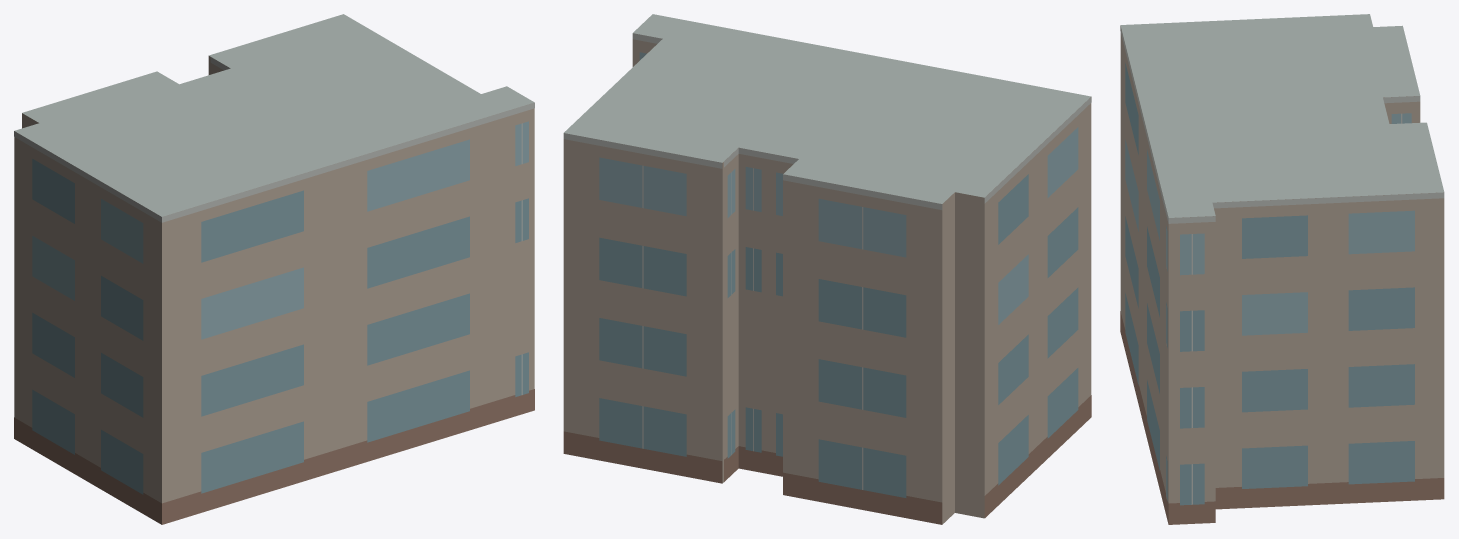
File: survey-upis-32746860.glb
The picture shows the model from 3 angles, left to right: view 1: azimuth 30°, elevation 25°; view 2: azimuth 150°, elevation 25°; view 3: azimuth 270°, elevation 25°; orthographic projection. The views are drawn at different scales.
Visible parts, largest first — view 1: survey-upis-32746860.tmp; view 2: survey-upis-32746860.tmp; view 3: survey-upis-32746860.tmp.
Part boxes in pixels (box(x1,y1,x2,y2)): survey-upis-32746860.tmp: box(14, 14, 534, 524); survey-upis-32746860.tmp: box(563, 14, 1091, 524); survey-upis-32746860.tmp: box(1120, 14, 1444, 524).
Bounding box in the file's own units: 18.27 × 12.8 × 12.26.
